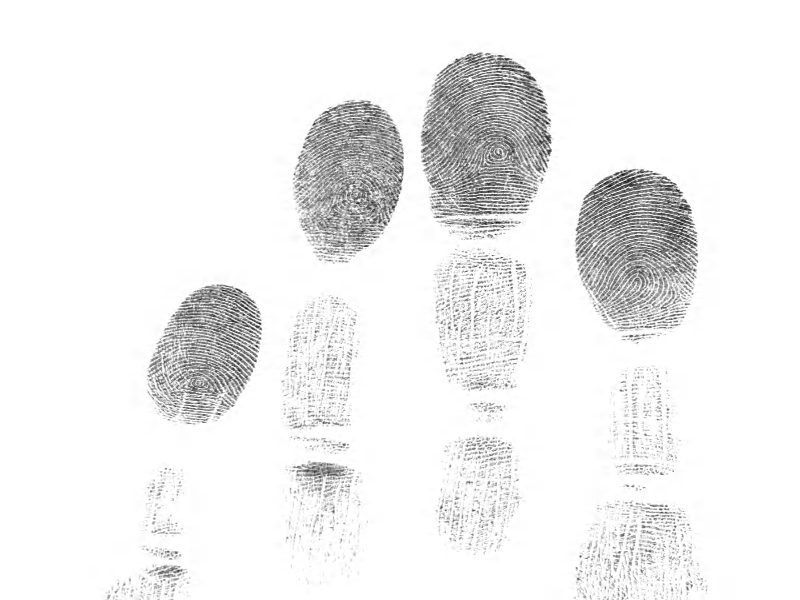distal: (567, 164, 719, 344), (413, 46, 556, 233), (285, 92, 413, 268), (143, 275, 267, 439)
proximal: (419, 240, 556, 410), (278, 278, 376, 449), (584, 352, 709, 483), (124, 451, 228, 546)
